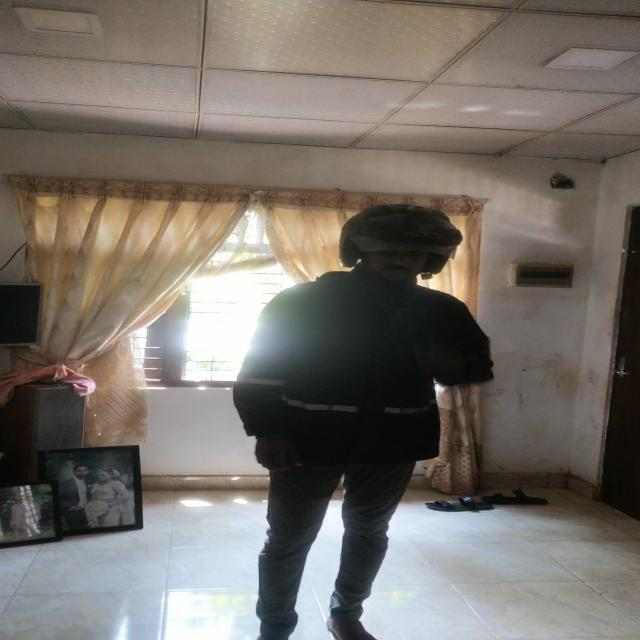Helmet_Wearer: (320, 200, 461, 301)
Jacket_Wearer: (221, 266, 496, 486)
Person: (225, 188, 498, 640)
